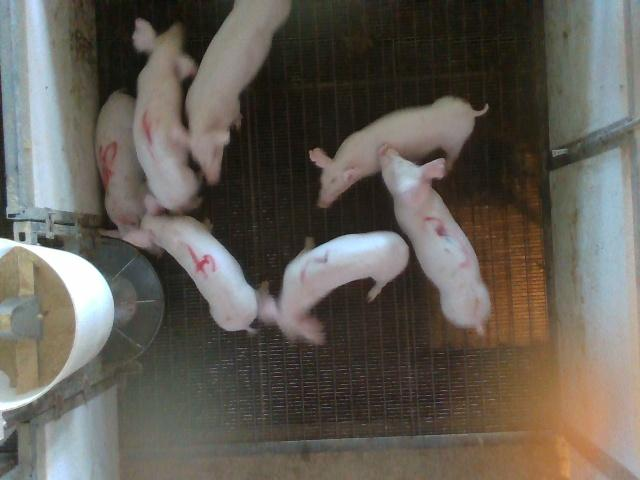pig-1: (132, 19, 199, 212)
pig-2: (256, 231, 409, 344)
pig-3: (380, 148, 491, 334)
pig-4: (124, 195, 258, 331)
pig-5: (96, 90, 148, 236)
